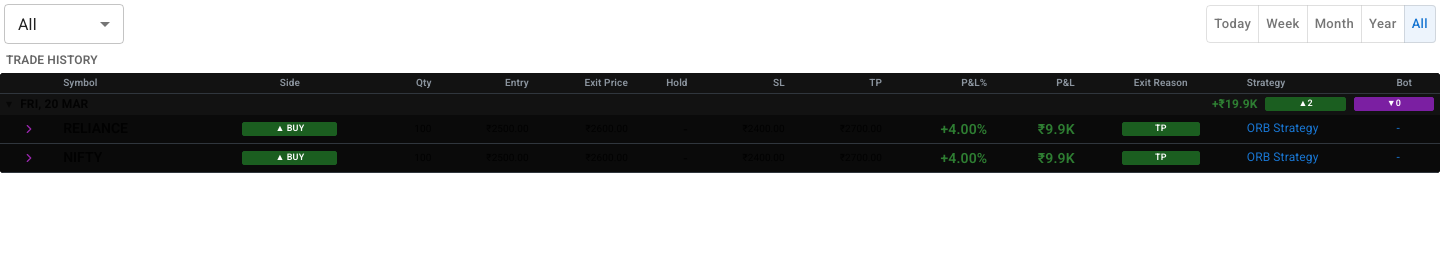
Test: PaperHistoryTable › source filter (books) › offers a Futures book when a futures trade is present
Press the mouse on the dropdown at coordinates (27, 24), box [18,14,37,34]
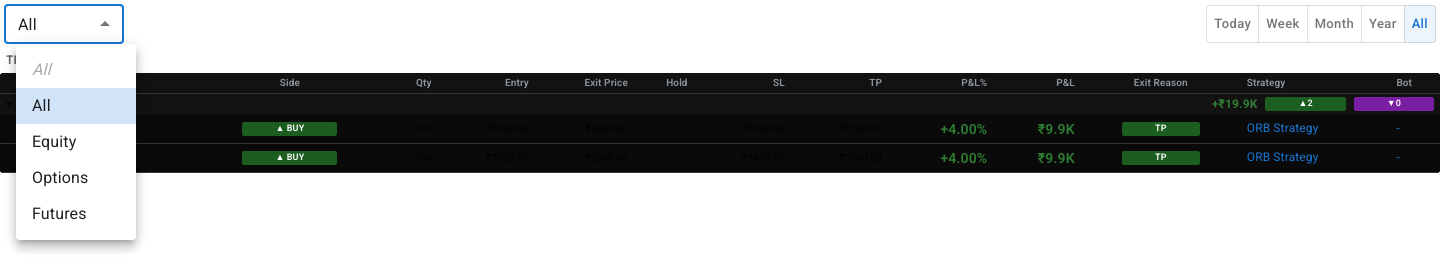
Expected: the option "Futures" is shown, [32,204,87,223]
